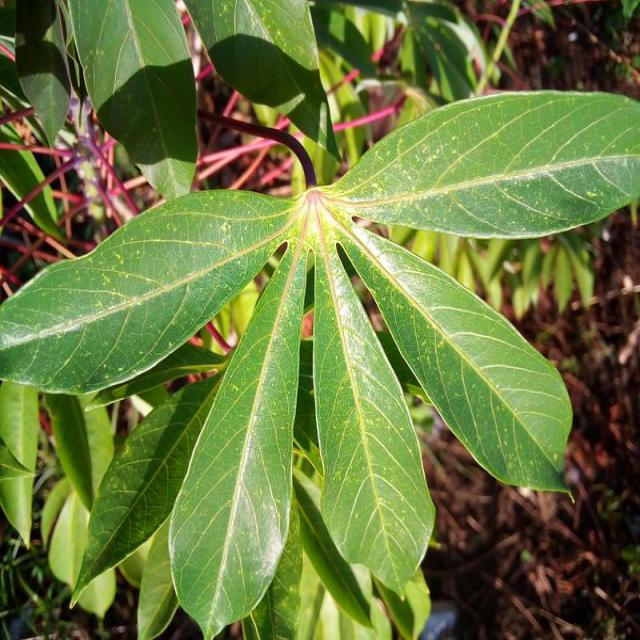cassava leaf: (1, 83, 638, 637), (328, 208, 574, 501), (0, 187, 299, 396), (310, 205, 436, 598), (330, 87, 638, 240), (65, 0, 198, 199), (183, 0, 340, 164)
